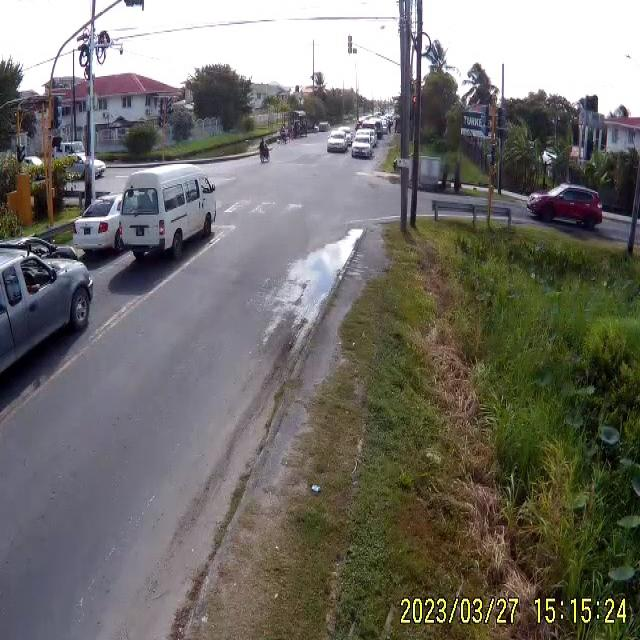car: (0, 244, 94, 371), (116, 167, 215, 259), (73, 190, 126, 260), (528, 185, 605, 229), (326, 131, 350, 156), (352, 137, 376, 160), (315, 121, 330, 132)
motorbike: (259, 144, 270, 164)
